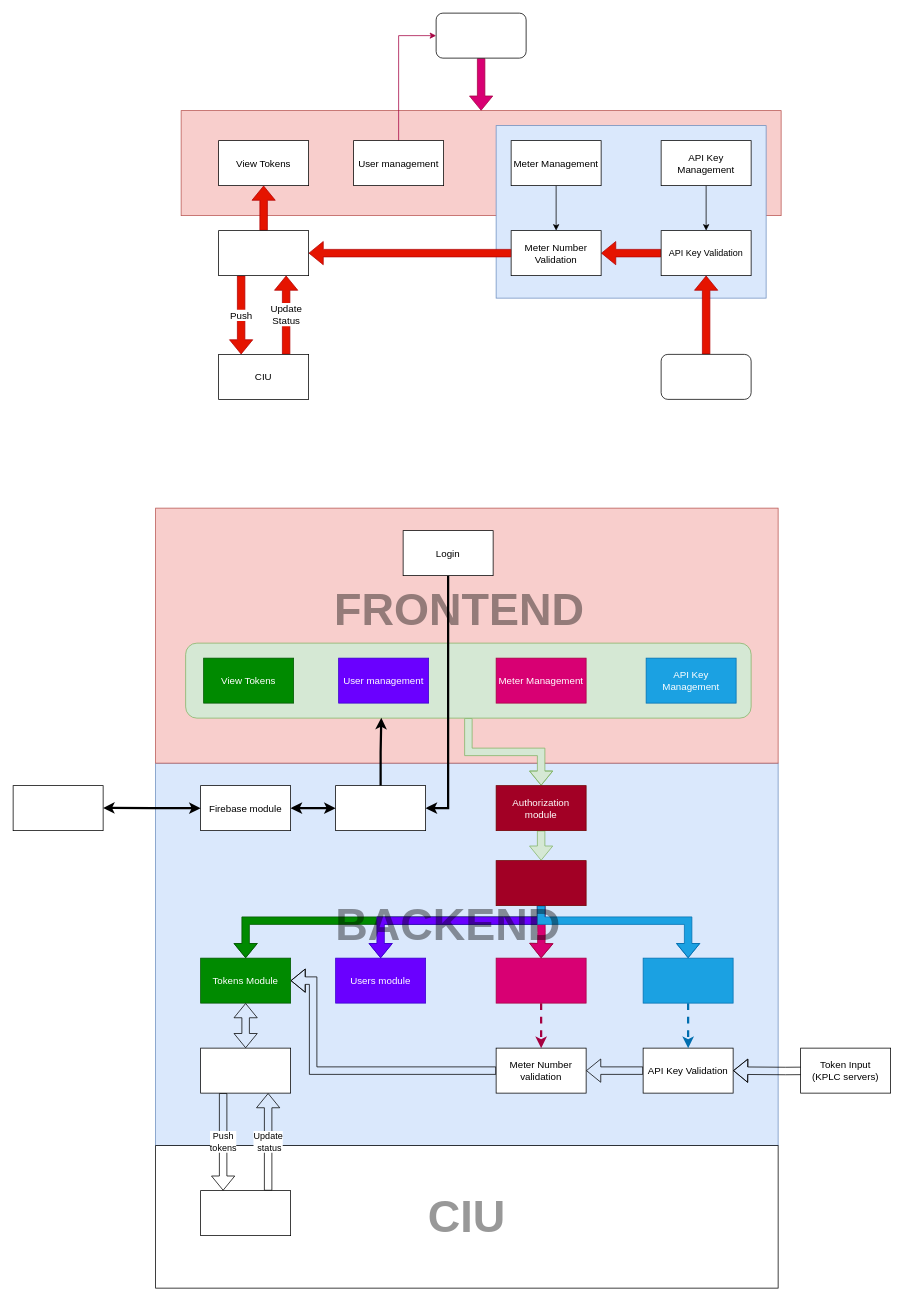
The diagram is 904 pixels wide and 1301 high, and some of its shapes have lost their labels. The centre of each missing label's shape, as x and y in pixels:
admin Login: (x=480, y=35)
API Key Module: (x=687, y=980)
Authentication module: (x=380, y=808)
Communications Module: (x=245, y=1070)
CRUD Operations: (x=263, y=253)
Google Firebase: (x=57, y=808)
GraphQL Resolvers: (x=540, y=883)
Meters module: (x=540, y=980)
Particle electron: (x=245, y=1213)
Token Input: (x=705, y=376)
